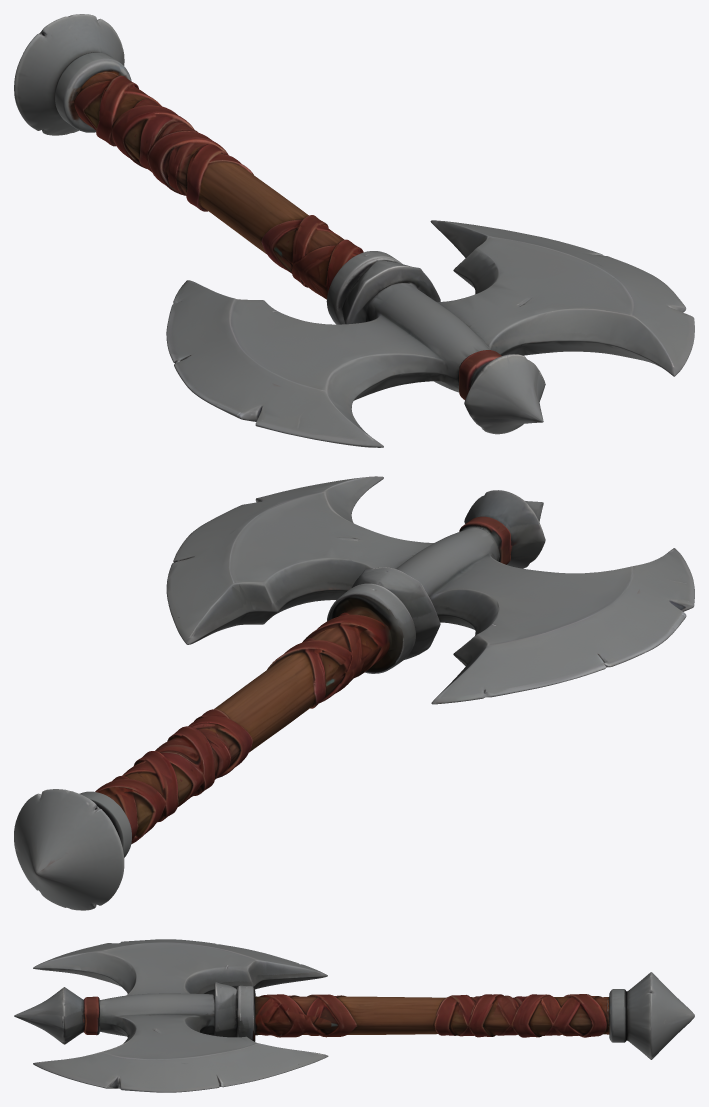
Rendered from EQ_Battle_Axe.fbx.
3 views of the same model, one above another, from view 1: azimuth 30°, elevation 25°; view 2: azimuth 150°, elevation 25°; view 3: azimuth 270°, elevation 25° (orthographic). The views are drawn at different scales.
Visible parts, largest first — view 1: Battle_axe; view 2: Battle_axe; view 3: Battle_axe.
Part boxes in pixels (<box>): Battle_axe: <box>14,14,694,447</box>; Battle_axe: <box>14,476,694,910</box>; Battle_axe: <box>14,939,694,1092</box>.
Bounding box in the file's own units: 115 × 27.88 × 217.
1 material, 1 textured.
